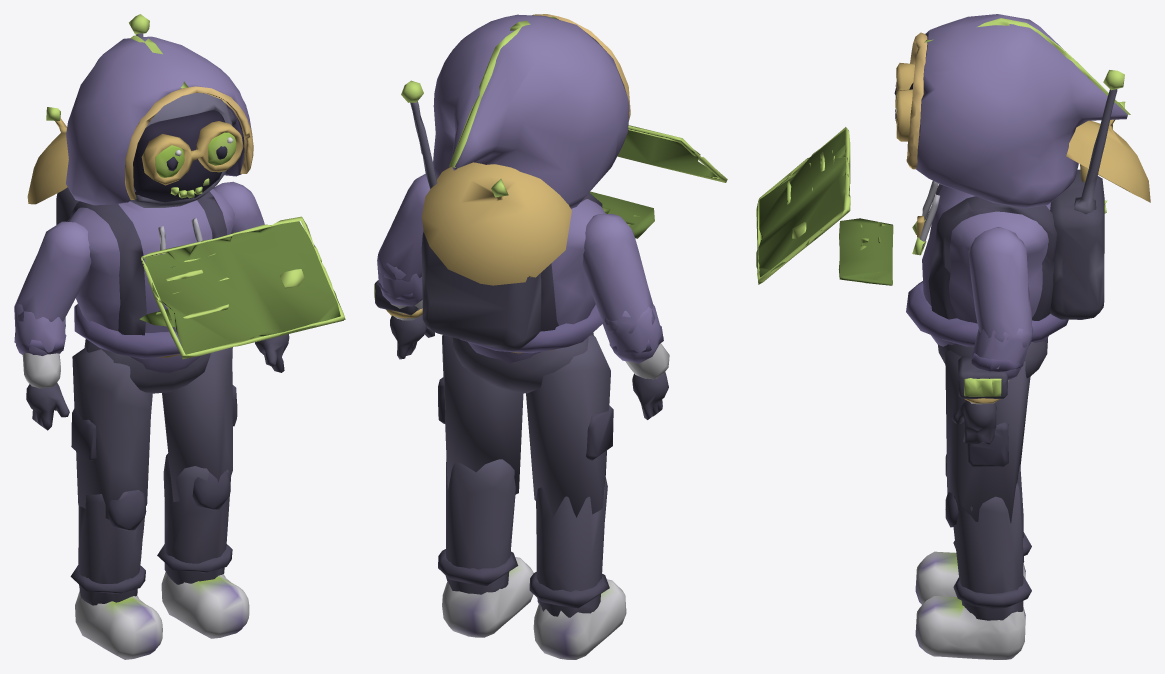
File: hacker_elite.glb
The picture shows the model from 3 angles, left to right: view 1: azimuth 30°, elevation 25°; view 2: azimuth 150°, elevation 25°; view 3: azimuth 270°, elevation 25°; orthographic projection. The views are drawn at different scales.
Visible parts, largest first — view 1: holo_glow, torso, hood, shin_l, shin_r, leg_r, head, leg_l, arm_r, fore_r, hood_glow, pelvis (+4 smaller); view 2: torso, hood, shin_l, shin_r, leg_r, leg_l, arm_r, holo_glow, fore_r, pelvis, arm_l, fore_l (+2 smaller); view 3: hood, torso, shin_l, holo_glow, leg_l, arm_l, fore_l, hood_glow, shin_r, head, pelvis, wrist_glow (+1 smaller).
Boxes of the visible parts, left/top/right/bottom form: holo_glow: left=139, top=216, right=345, bottom=359; torso: left=27, top=33, right=234, bottom=373; hood: left=66, top=36, right=251, bottom=205; shin_l: left=157, top=453, right=249, bottom=638; shin_r: left=70, top=490, right=162, bottom=659; leg_r: left=71, top=347, right=152, bottom=519; head: left=130, top=93, right=243, bottom=207; leg_l: left=162, top=347, right=237, bottom=502; arm_r: left=14, top=221, right=91, bottom=321; fore_r: left=14, top=303, right=69, bottom=430; hood_glow: left=125, top=35, right=253, bottom=199; pelvis: left=84, top=339, right=210, bottom=393; torso: left=410, top=101, right=605, bottom=364; hood: left=433, top=14, right=629, bottom=208; shin_l: left=438, top=459, right=533, bottom=637; shin_r: left=529, top=477, right=626, bottom=659; leg_r: left=526, top=335, right=613, bottom=518; leg_l: left=438, top=335, right=523, bottom=494; arm_r: left=582, top=214, right=655, bottom=333; holo_glow: left=589, top=125, right=727, bottom=238; fore_r: left=602, top=304, right=669, bottom=419; pelvis: left=452, top=333, right=593, bottom=393; arm_l: left=378, top=174, right=430, bottom=281; fore_l: left=375, top=250, right=434, bottom=359; hood: left=916, top=14, right=1127, bottom=208; torso: left=906, top=89, right=1150, bottom=346; shin_l: left=915, top=481, right=1031, bottom=659; holo_glow: left=756, top=127, right=893, bottom=285; leg_l: left=945, top=350, right=1030, bottom=522; arm_l: left=968, top=227, right=1032, bottom=347; fore_l: left=951, top=326, right=1033, bottom=444; hood_glow: left=906, top=18, right=1130, bottom=169; shin_r: left=915, top=454, right=1031, bottom=604; head: left=895, top=63, right=915, bottom=141; pelvis: left=938, top=338, right=1047, bottom=378; wrist_glow: left=964, top=378, right=1001, bottom=396.
Bounding box in the file's own units: 0.5212 × 1.09 × 0.6336.
